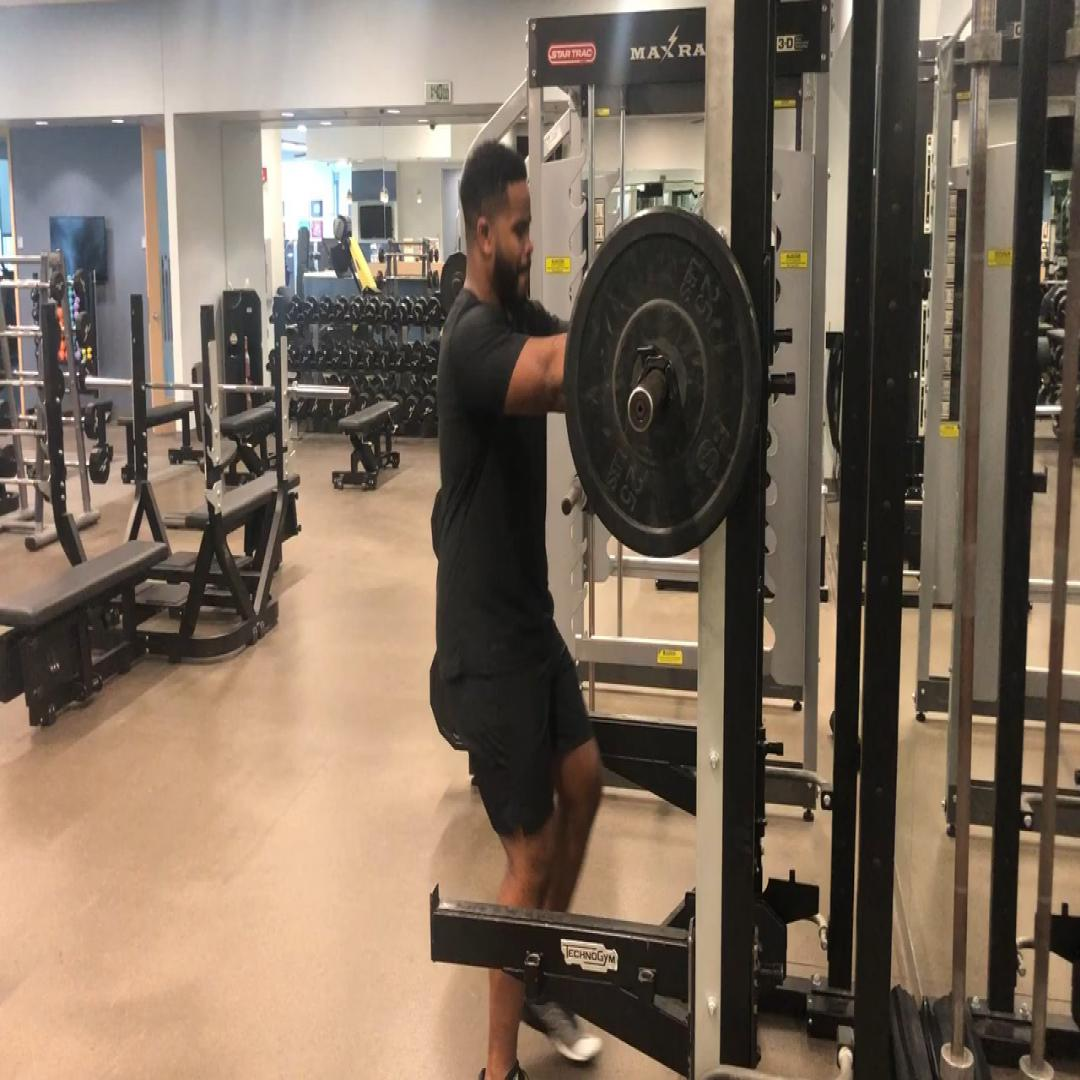Bar: (626, 384, 655, 435)
Barbell: (562, 207, 764, 558)
